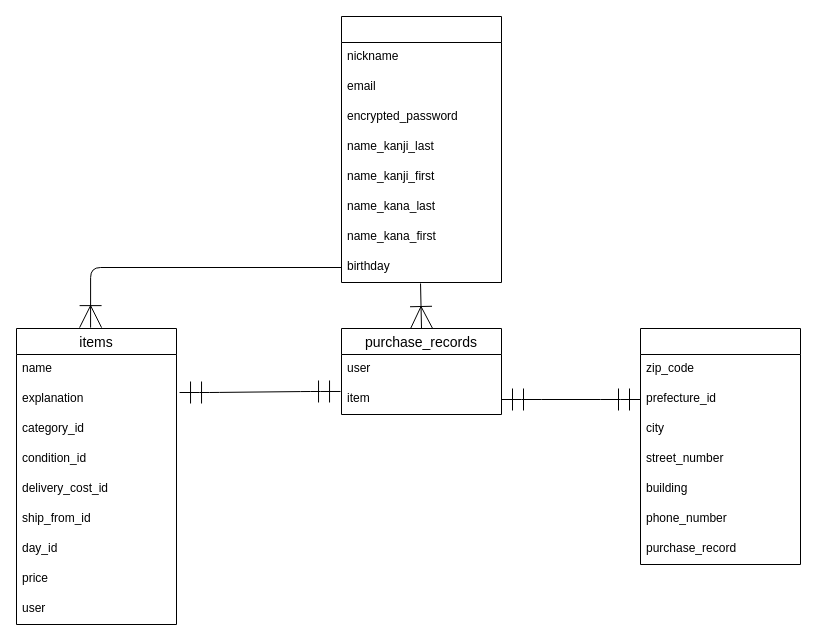
Image size: 817x641. Some labels were removed from this diagram. Each missing label, with the box of its shape:
addresses: (640, 328, 800, 564)
users: (340, 16, 502, 282)
